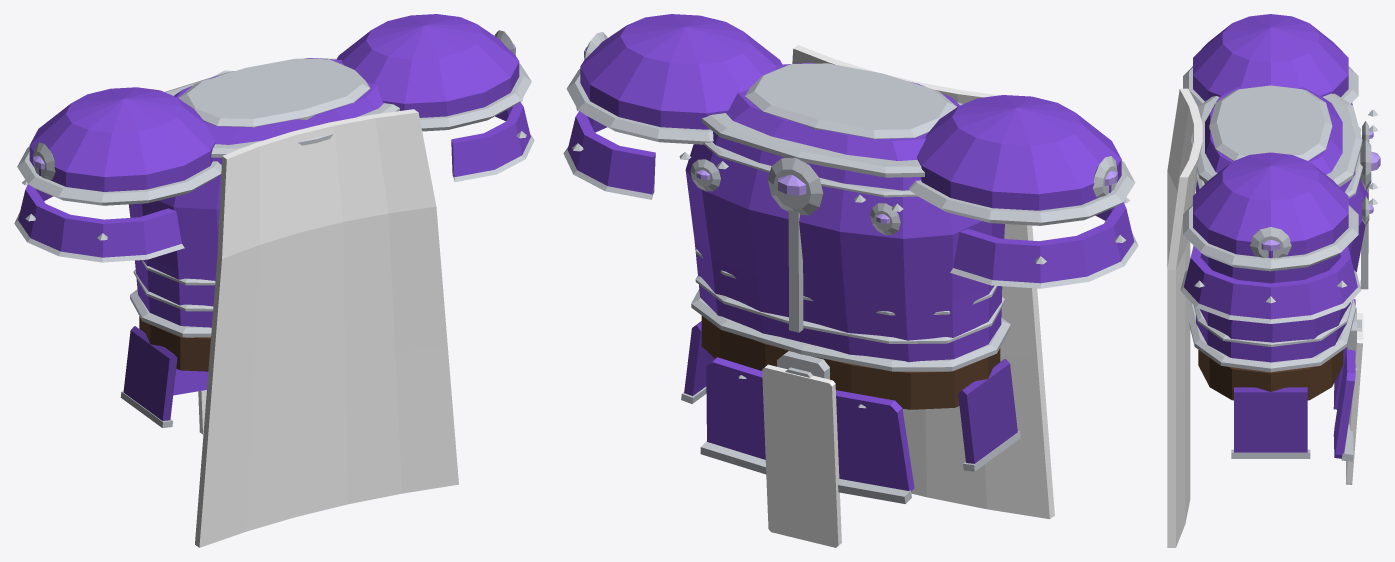
Rendered from look3_armor_greatsword_epic.fbx.
The picture shows the model from 3 angles, left to right: view 1: azimuth 30°, elevation 25°; view 2: azimuth 150°, elevation 25°; view 3: azimuth 270°, elevation 25°; orthographic projection. The views are drawn at different scales.
Parts seen in each view (by area): view 1: Main, Tasset; view 2: Main, Tasset; view 3: Main, Tasset.
Part boxes in pixels (box(x1,y1,x2,y2)): Main: box(14, 14, 534, 547); Tasset: box(120, 326, 208, 434); Main: box(563, 14, 1138, 519); Tasset: box(681, 321, 1020, 547); Main: box(1167, 14, 1380, 547); Tasset: box(1231, 299, 1363, 484).
Bounding box in the file's own units: 439 × 351 × 173.
